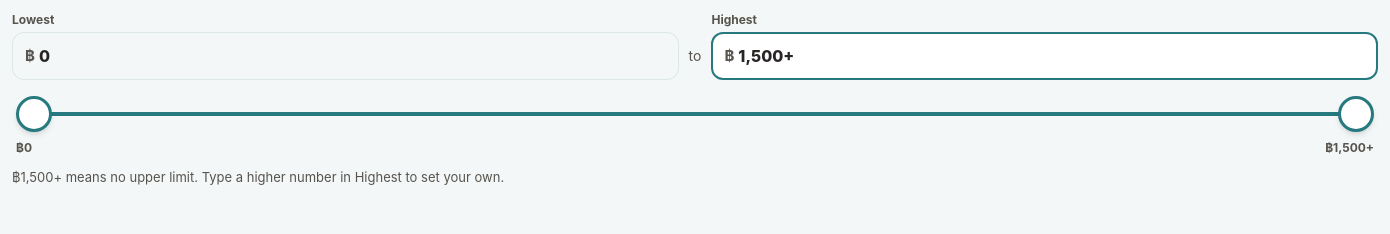
feat/27 the shared price slider: typed boxes and a bar, in a popover and in the sheet › typing a number › sets a cap and grows the bar to fit a Highest above 1,500, rounded up to the next 500
Replace the text in the field labelled "Highest ฿" with "3,000" at coordinates (1052, 56), box [738,44,1365,68]
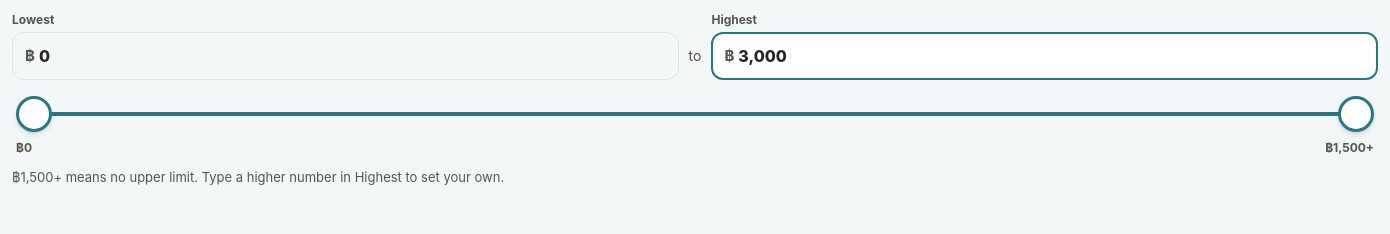
Leave the field labelled "Highest ฿", box [738,44,1365,68]
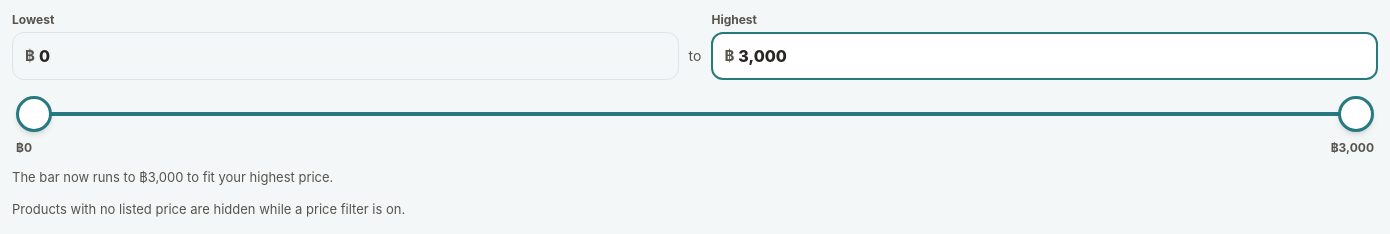
Expected: the slider named "Highest price" holds "3000", [12,92,1378,136]
Now the text "฿3,000" is shown, box [1331,140,1374,156]
Now the text "The bar now runs to ฿3,000 to fit your highest price." is shown, box [12,169,333,185]
Replace the text in the field labelled "Highest ฿" with "3100" at coordinates (1052, 56), box [738,44,1365,68]
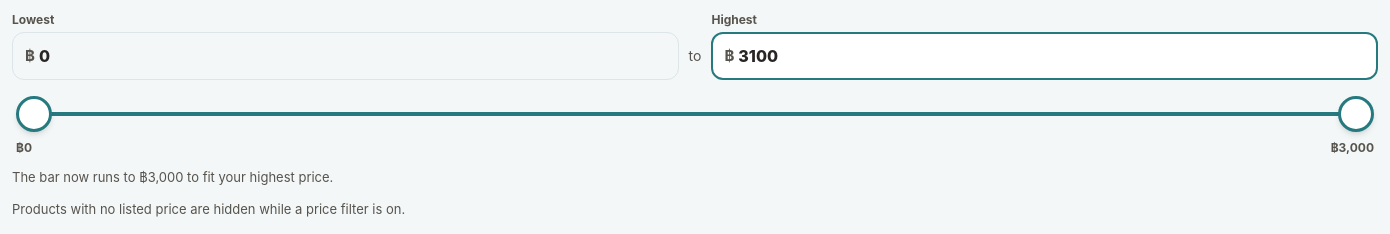
Leave the field labelled "Highest ฿", box [738,44,1365,68]
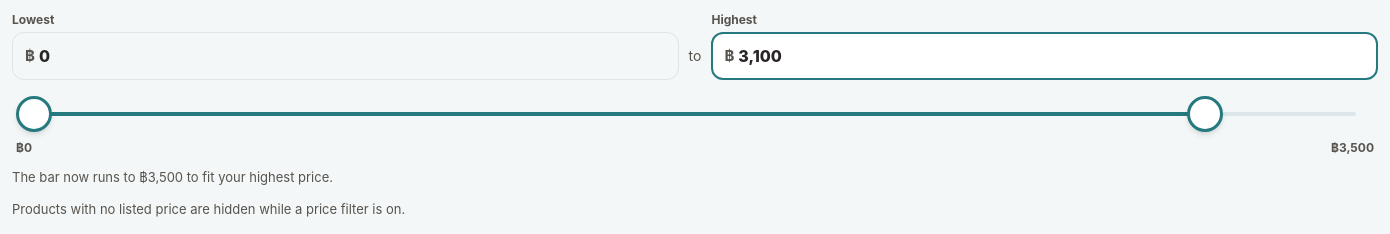
Now the text "฿3,500" is shown, box [1331,140,1374,156]
